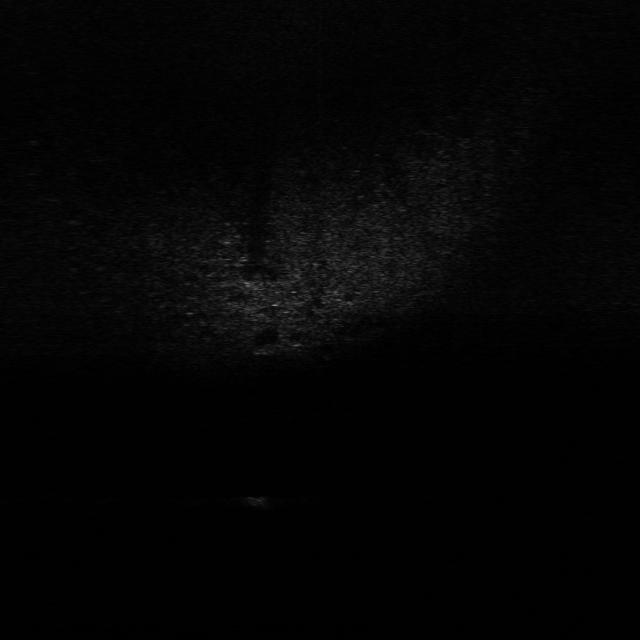cylinder: (244, 493, 277, 511)
